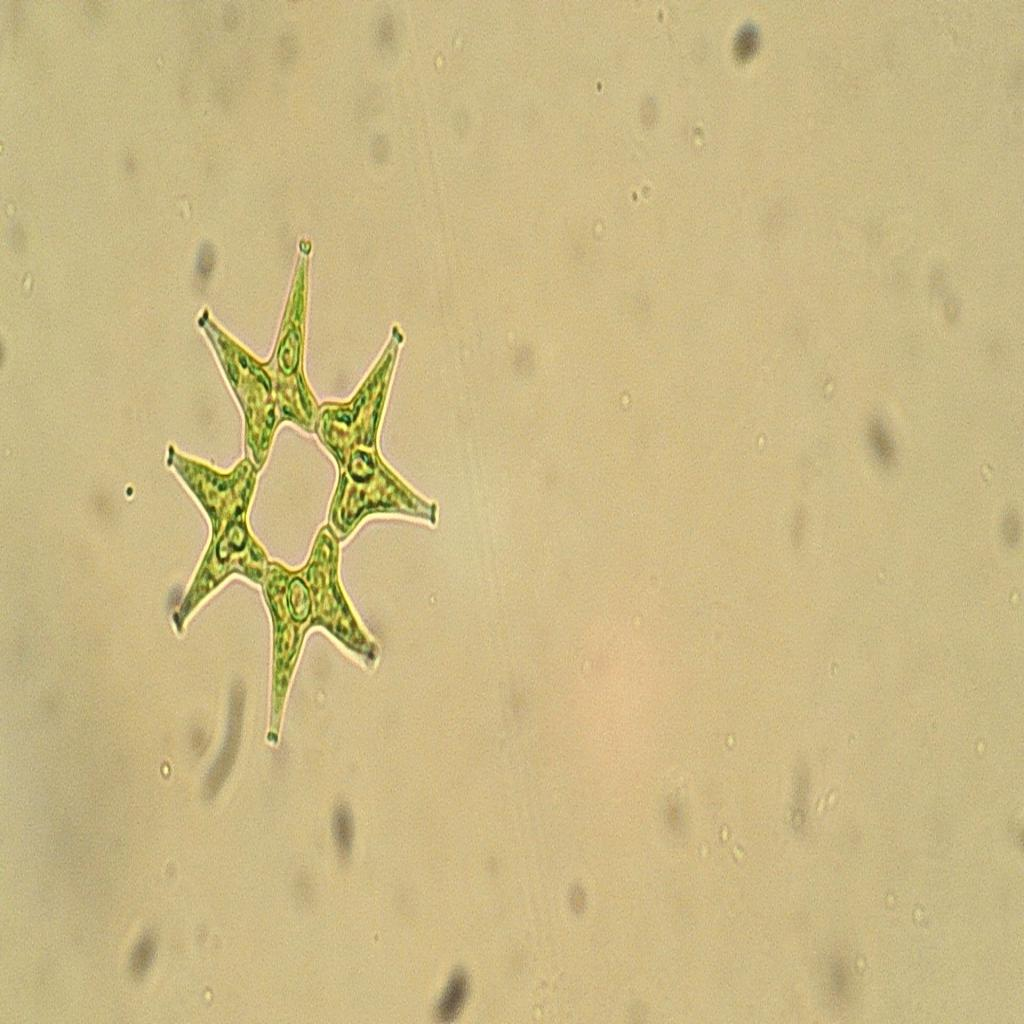Pediastrum_75O: (128, 226, 464, 752)
